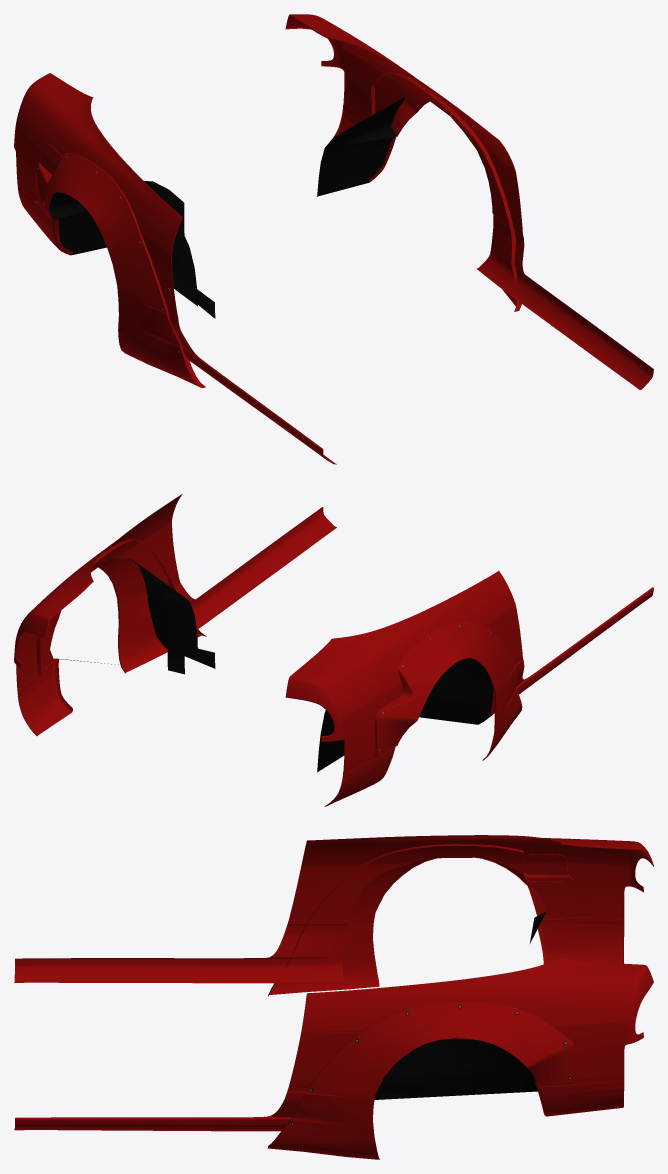
The model's file is rearfenders_rocketbunnyv2.glb.
3 views of the same model, one above another, from view 1: azimuth 30°, elevation 25°; view 2: azimuth 150°, elevation 25°; view 3: azimuth 270°, elevation 25° (orthographic).
Parts seen in each view (by area): view 1: Fenders, Extensions, Undercarriage; view 2: Fenders, Extensions, Undercarriage; view 3: Fenders, Extensions, Undercarriage.
Boxes of the visible parts, x1,y1,x2,y2 form: Fenders: (14,14,653,464); Extensions: (34,72,521,388); Undercarriage: (49,96,405,318); Fenders: (14,494,653,806); Extensions: (36,539,522,760); Undercarriage: (55,559,493,772); Fenders: (14,835,653,1131); Extensions: (268,844,574,1159); Undercarriage: (374,911,546,1099).
Size of the model in its own units: 1.85 by 0.8142 by 2.73.
